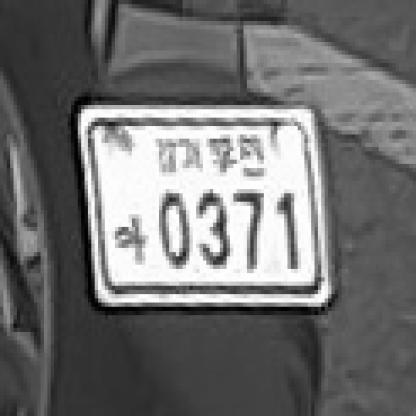bnum: (72, 92, 342, 317)
